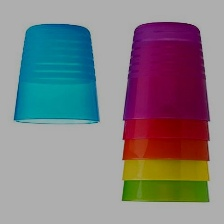glass: (115, 18, 216, 211), (10, 21, 102, 129)
